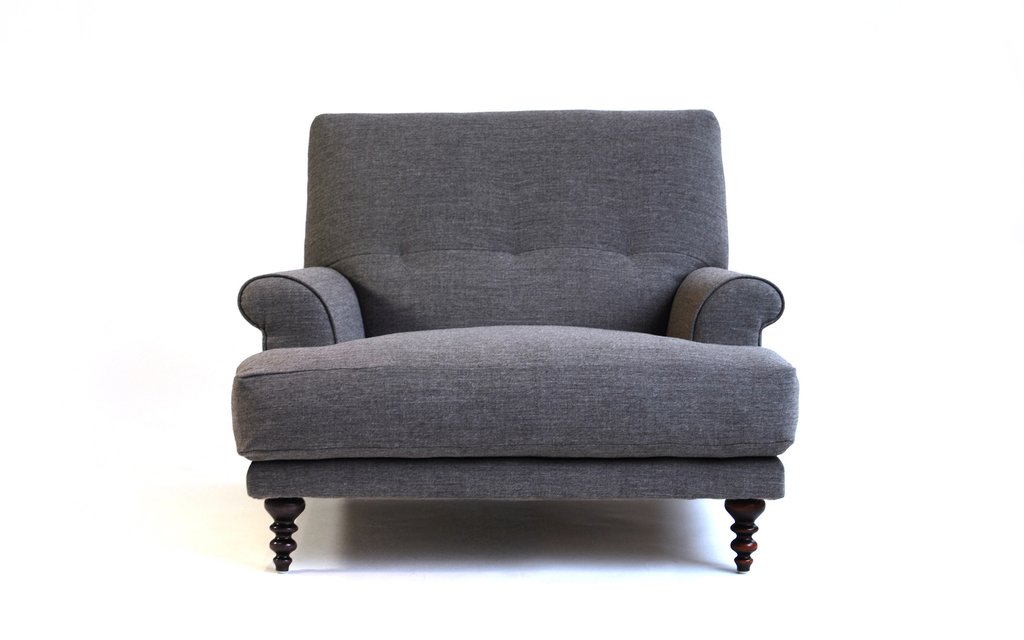chairs: (228, 111, 803, 581)
